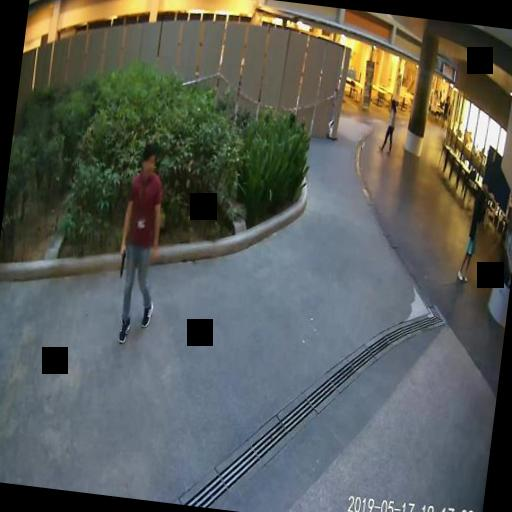Handgun: (117, 248, 125, 276)
